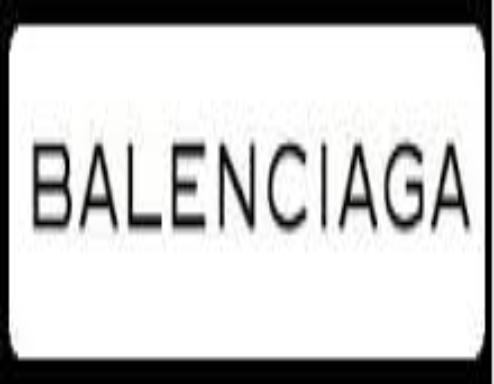BALENCIAGA: (29, 132, 471, 245)
